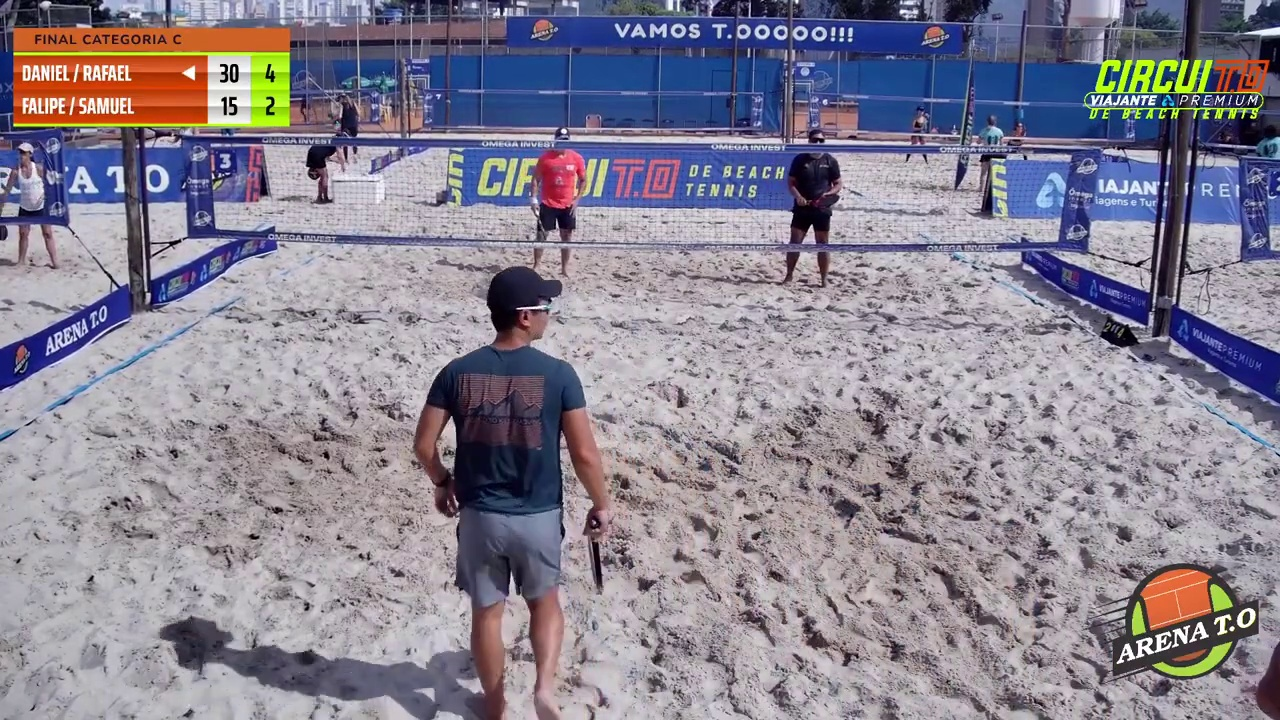court_line: (634, 0, 805, 357), (540, 0, 669, 471)
